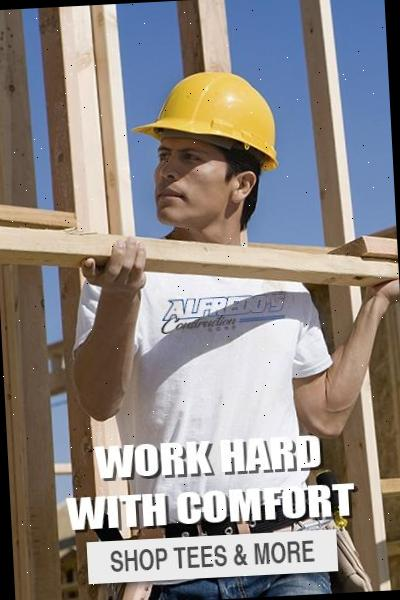helmet: (126, 68, 281, 174)
no_wear: (95, 250, 311, 519)
